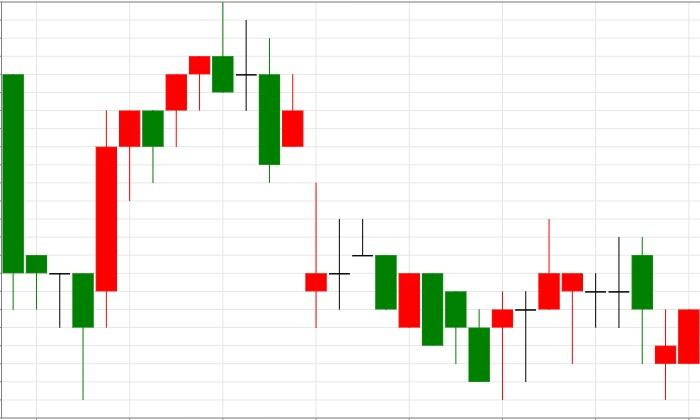shooting_star_fall: (95, 2, 233, 328)
